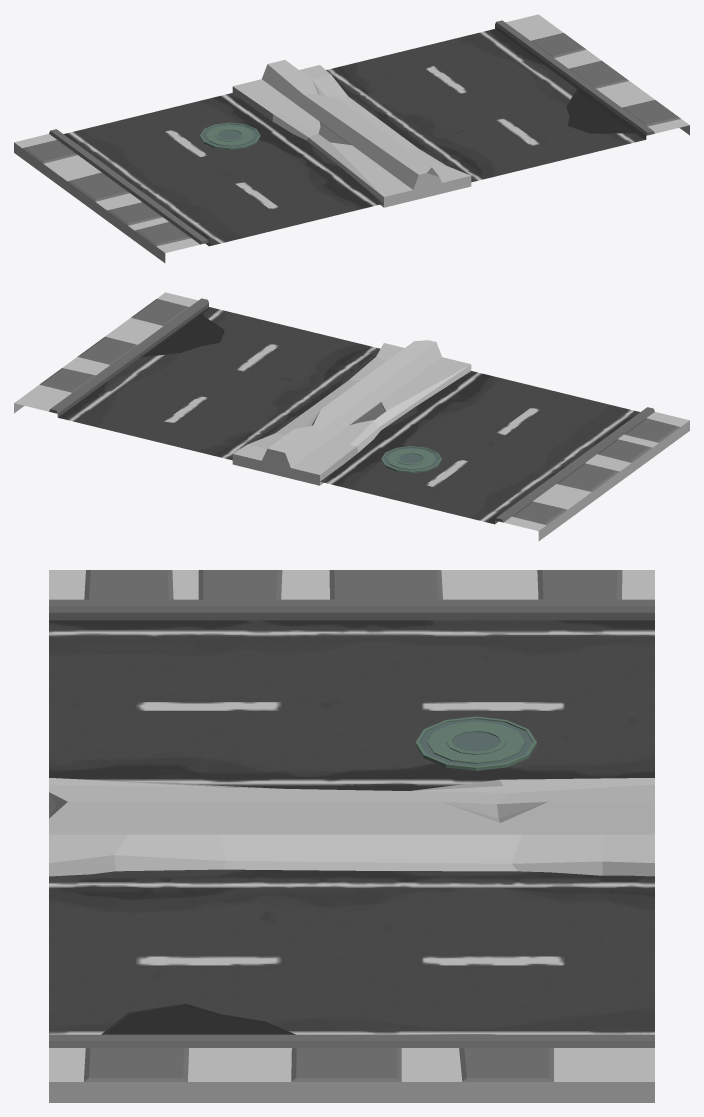
File: Highway_Straight_Short 01.fbx
3 views of the same model, one above another, from view 1: azimuth 30°, elevation 25°; view 2: azimuth 150°, elevation 25°; view 3: azimuth 270°, elevation 25° (orthographic). The views are drawn at different scales.
Parts seen in each view (by area): view 1: Highway_Straight_Short 01; view 2: Highway_Straight_Short 01; view 3: Highway_Straight_Short 01.
Boxes of the visible parts, x1,y1,x2,y2 form: Highway_Straight_Short 01: [14, 14, 689, 262]; Highway_Straight_Short 01: [14, 292, 689, 540]; Highway_Straight_Short 01: [49, 570, 654, 1102].
Bounding box in the file's own units: 2400 × 117 × 1200.
